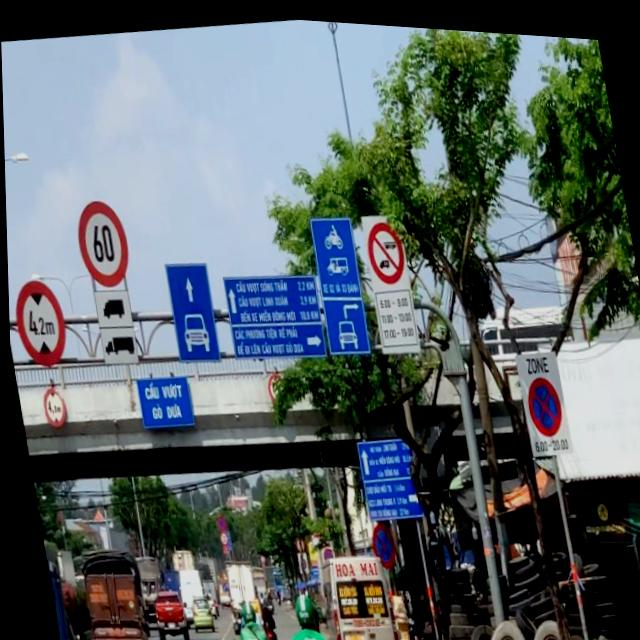Cam dung xe va do xe: (519, 364, 565, 435), (366, 514, 396, 568)
Han che chieu cao: (8, 275, 71, 379), (33, 379, 70, 439)
Toc do toi da cho phep: (68, 187, 135, 292)
